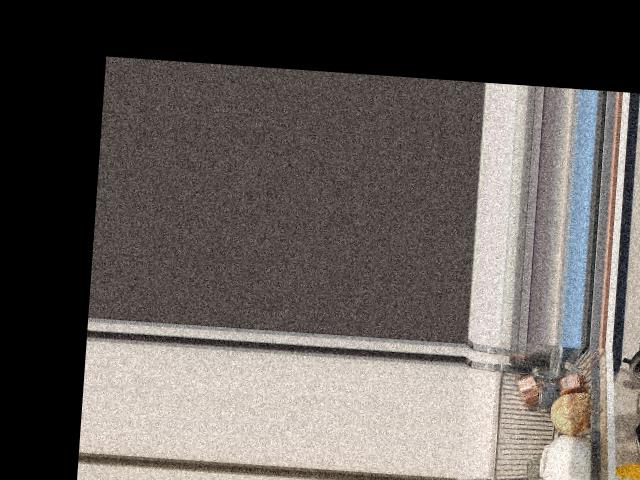onion: (546, 392, 596, 436)
